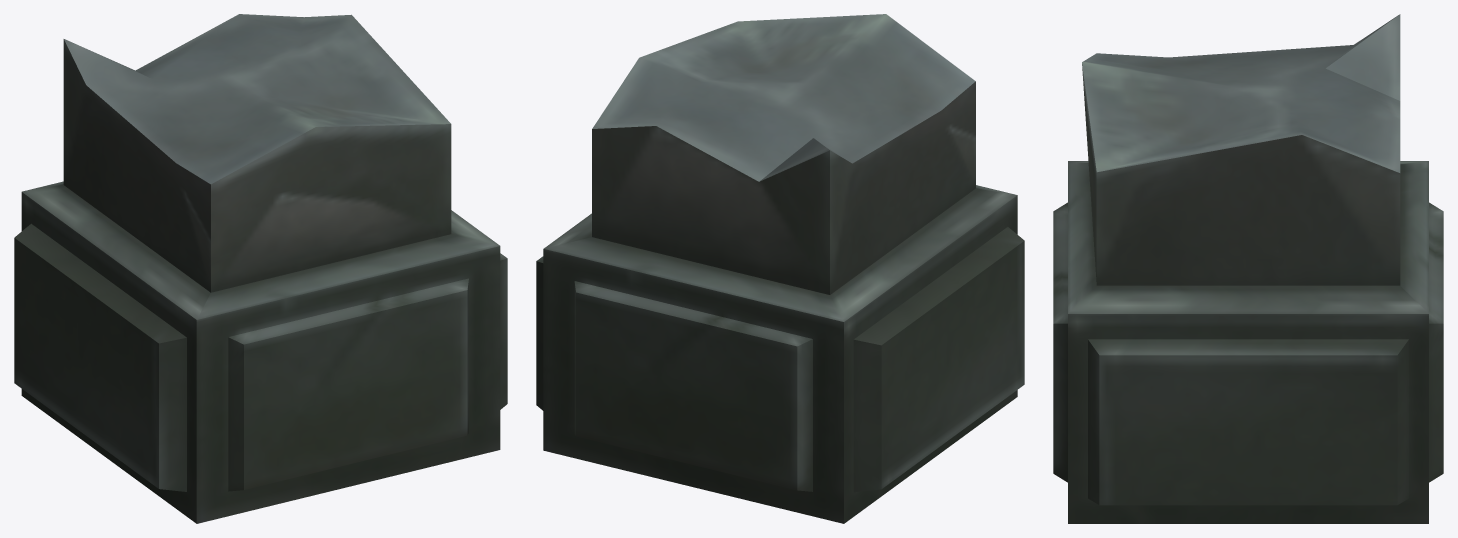
The model's file is scene_shenmisenlin_sm03.FBX.
3 renders of one model, left to right at view 1: azimuth 30°, elevation 25°; view 2: azimuth 150°, elevation 25°; view 3: azimuth 270°, elevation 25°, orthographic. The views are drawn at different scales.
Parts seen in each view (by area): view 1: scene_shenmisenlin_sm03; view 2: scene_shenmisenlin_sm03; view 3: scene_shenmisenlin_sm03.
Part boxes in pixels (box(x1,y1,x2,y2)): scene_shenmisenlin_sm03: box(14, 14, 507, 523); scene_shenmisenlin_sm03: box(536, 14, 1024, 523); scene_shenmisenlin_sm03: box(1053, 14, 1443, 523).
Size of the model in its own units: 77.59 by 76.79 by 72.95.
